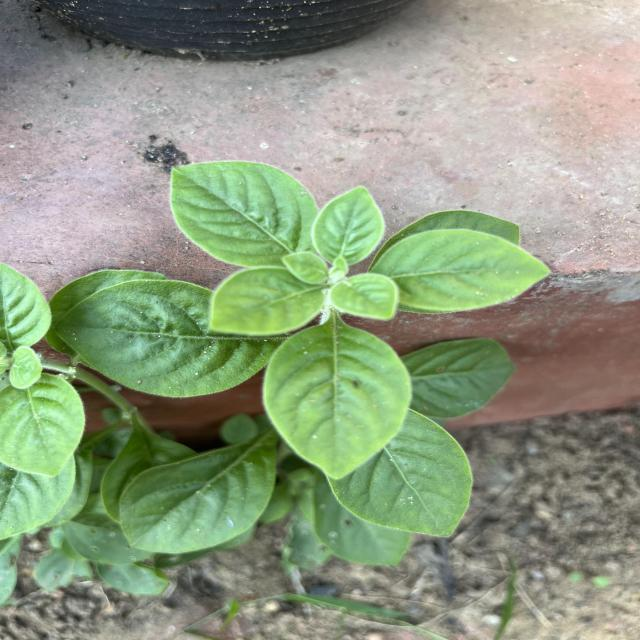Aerva lanata: (50, 277, 272, 400), (321, 404, 476, 542), (165, 158, 321, 268)
